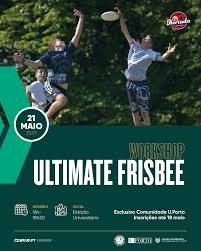disc: (102, 13, 121, 20)
